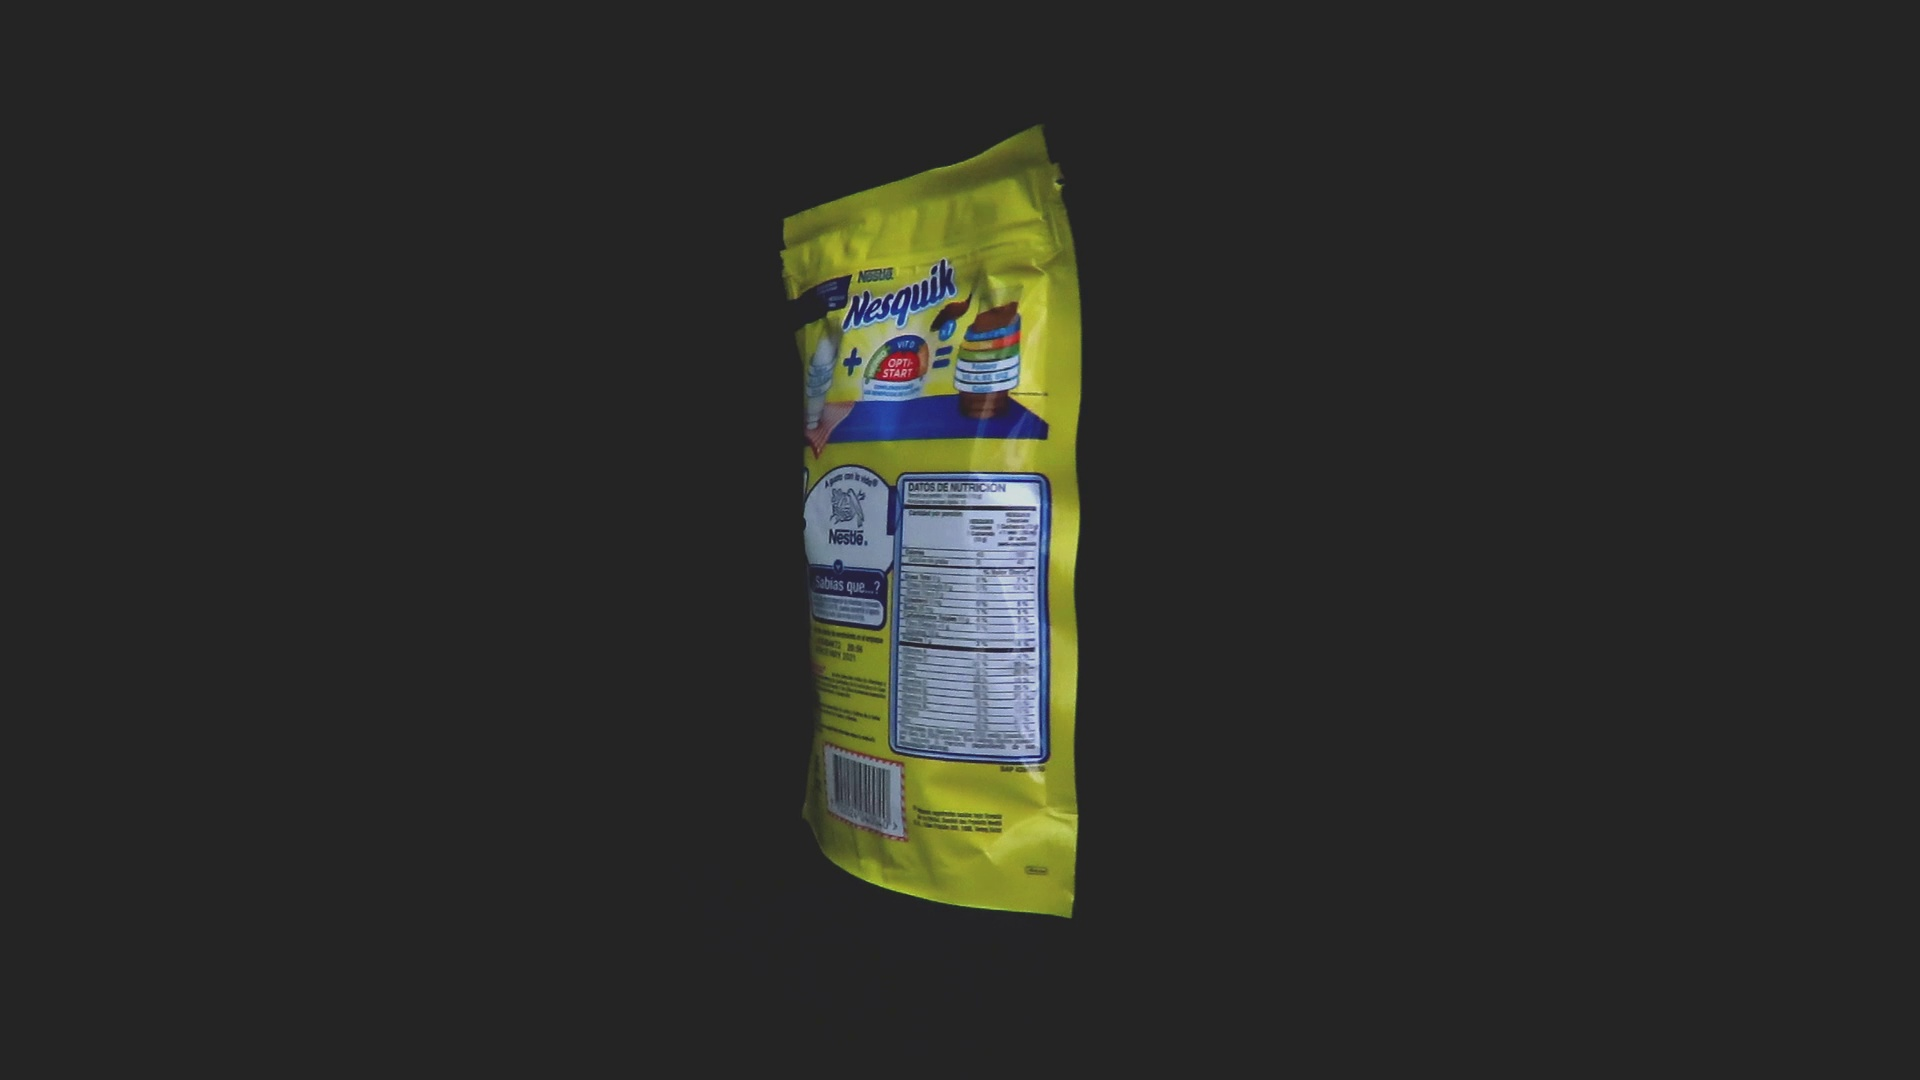COL0170303DYP20000: (775, 119, 1088, 924)
